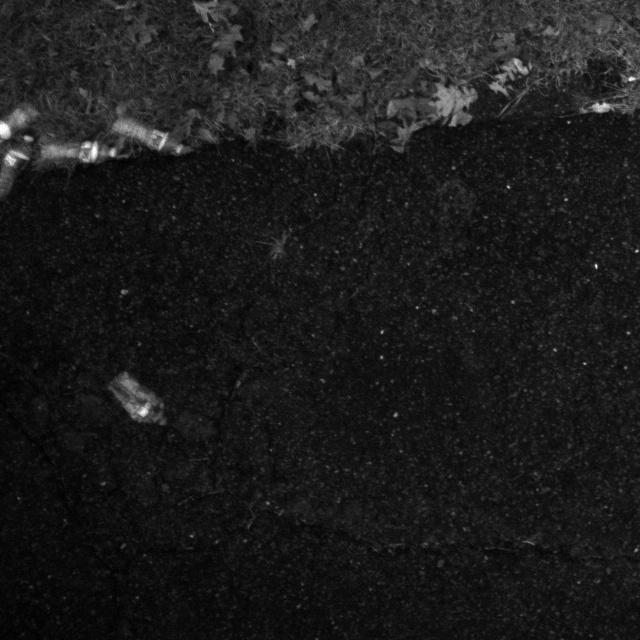bottle: (105, 104, 191, 157), (106, 368, 170, 431), (34, 130, 134, 169)
